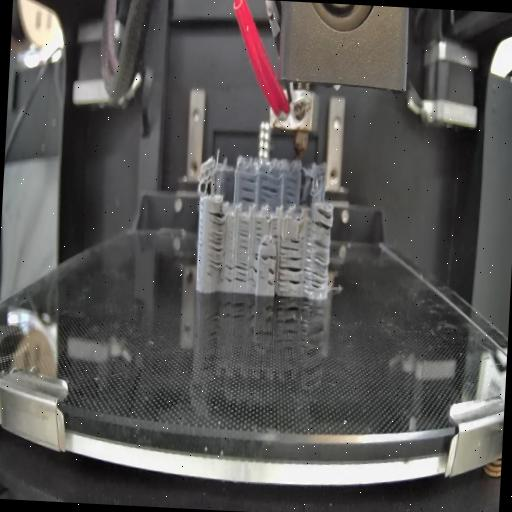cracks: (303, 240, 329, 294), (206, 210, 224, 272), (277, 256, 302, 294), (222, 256, 246, 286), (238, 171, 256, 204), (259, 176, 278, 206), (310, 206, 333, 230), (282, 175, 296, 207), (280, 236, 302, 252), (238, 220, 249, 252), (250, 252, 260, 287), (252, 218, 264, 238), (270, 216, 279, 240), (266, 268, 275, 290), (261, 253, 276, 261), (258, 241, 269, 247)
